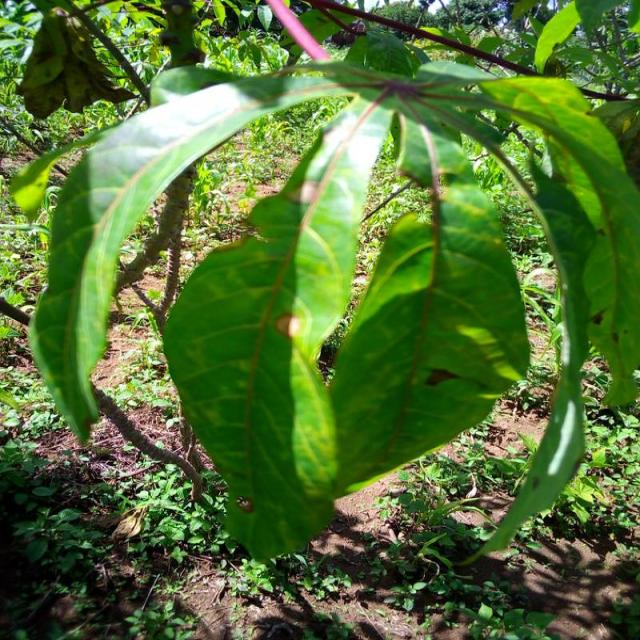cassava leaf: (24, 31, 637, 567)
